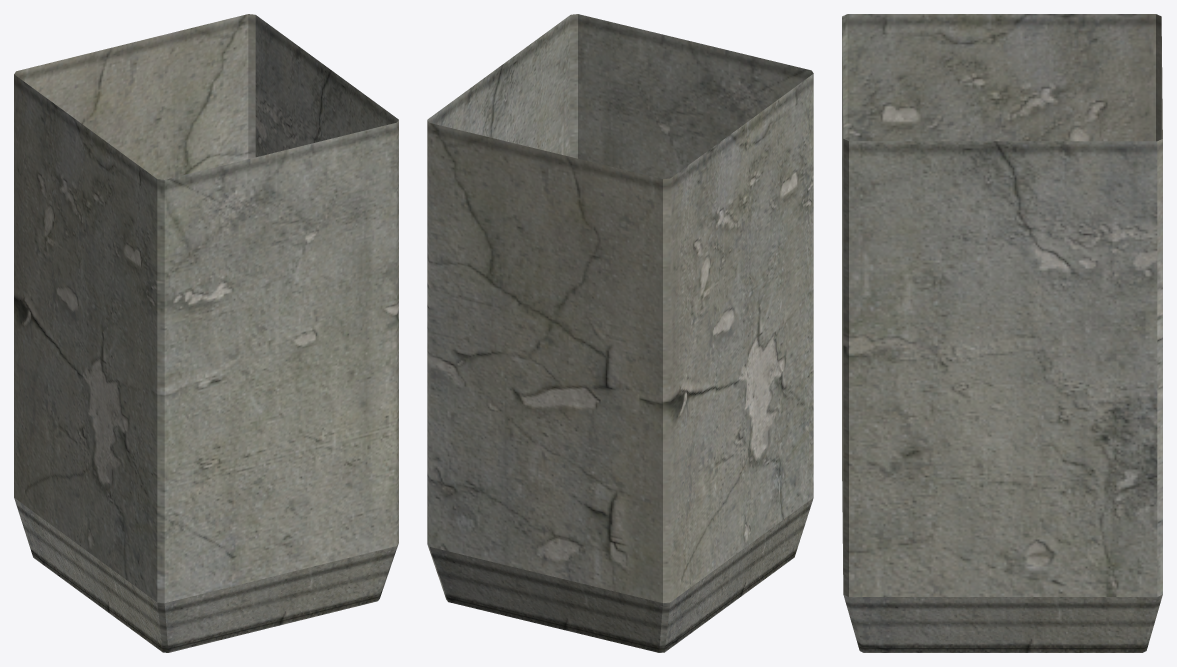
The model's file is urban_damaged_deco_pillar_block_ceiling.dae.
The picture shows the model from 3 angles, left to right: view 1: azimuth 30°, elevation 25°; view 2: azimuth 150°, elevation 25°; view 3: azimuth 270°, elevation 25°; orthographic projection. The views are drawn at different scales.
Visible parts, largest first — view 1: polySurface811; view 2: polySurface811; view 3: polySurface811.
Boxes of the visible parts, x1=… form: polySurface811: x1=14, y1=14, x2=398, y2=652; polySurface811: x1=427, y1=14, x2=813, y2=652; polySurface811: x1=842, y1=14, x2=1162, y2=652.
Size of the model in its own units: 0.7897 by 1.5 by 0.8416.
